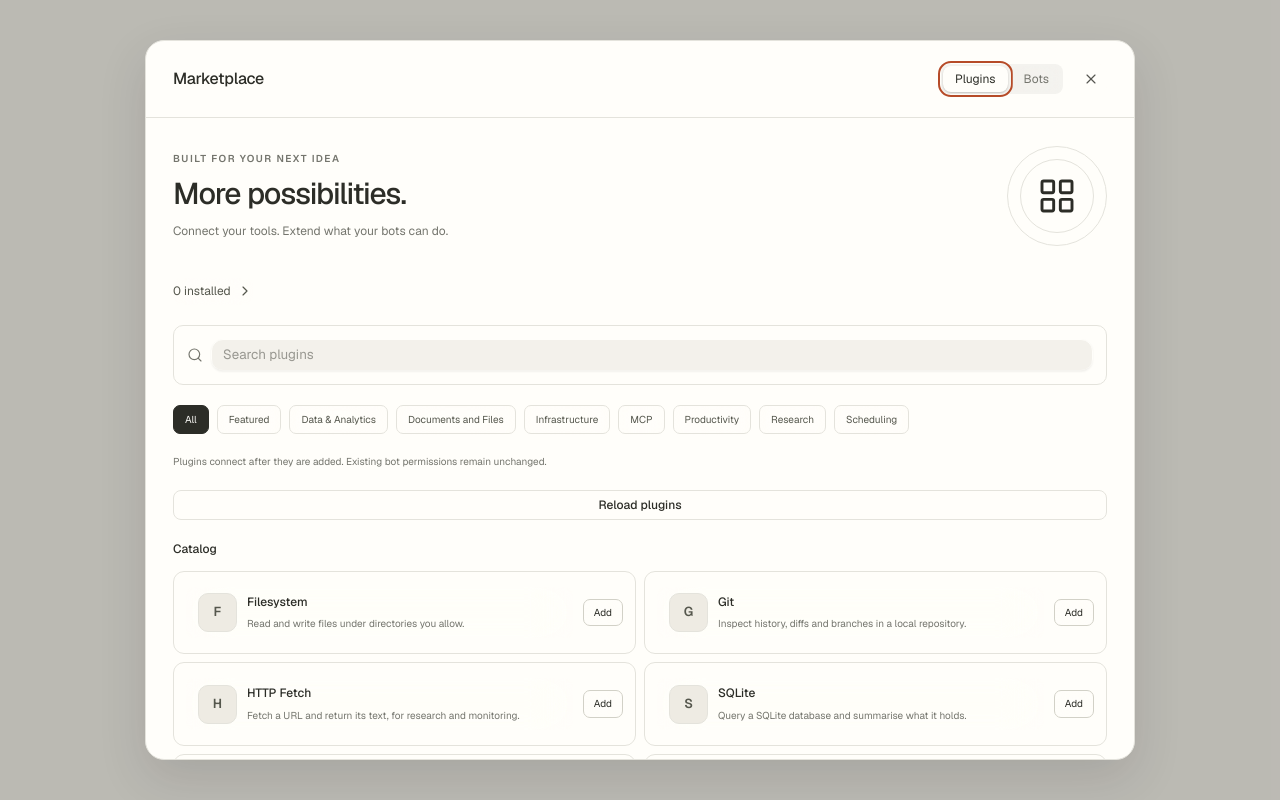
Test: plugins › reports successful hot connection and allows reload without restarting
Click the 1st button "Add": (603, 612) [583, 599, 623, 626]
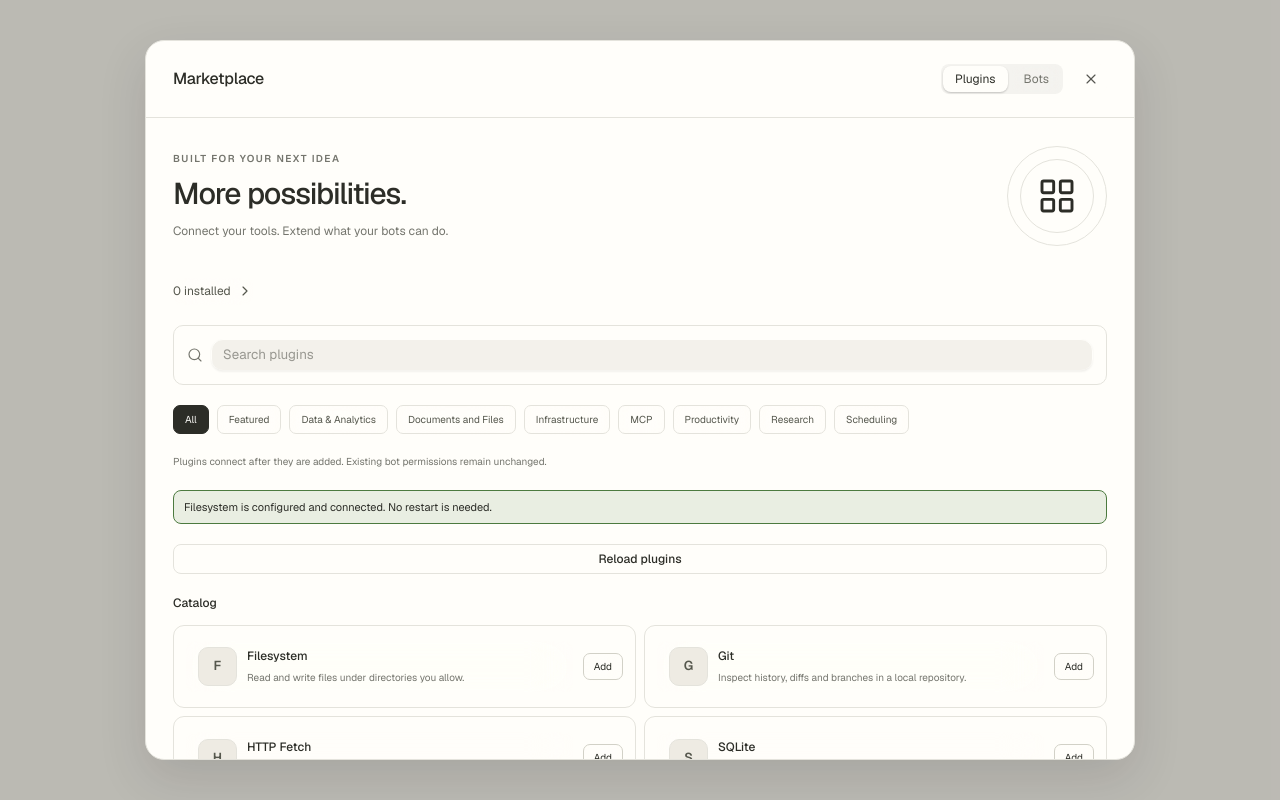
expect the text "Filesystem is configured and connected. No restart is needed." is shown: met, box [173, 490, 1107, 524]
Click the button "Reload plugins": (640, 559) [173, 544, 1107, 574]
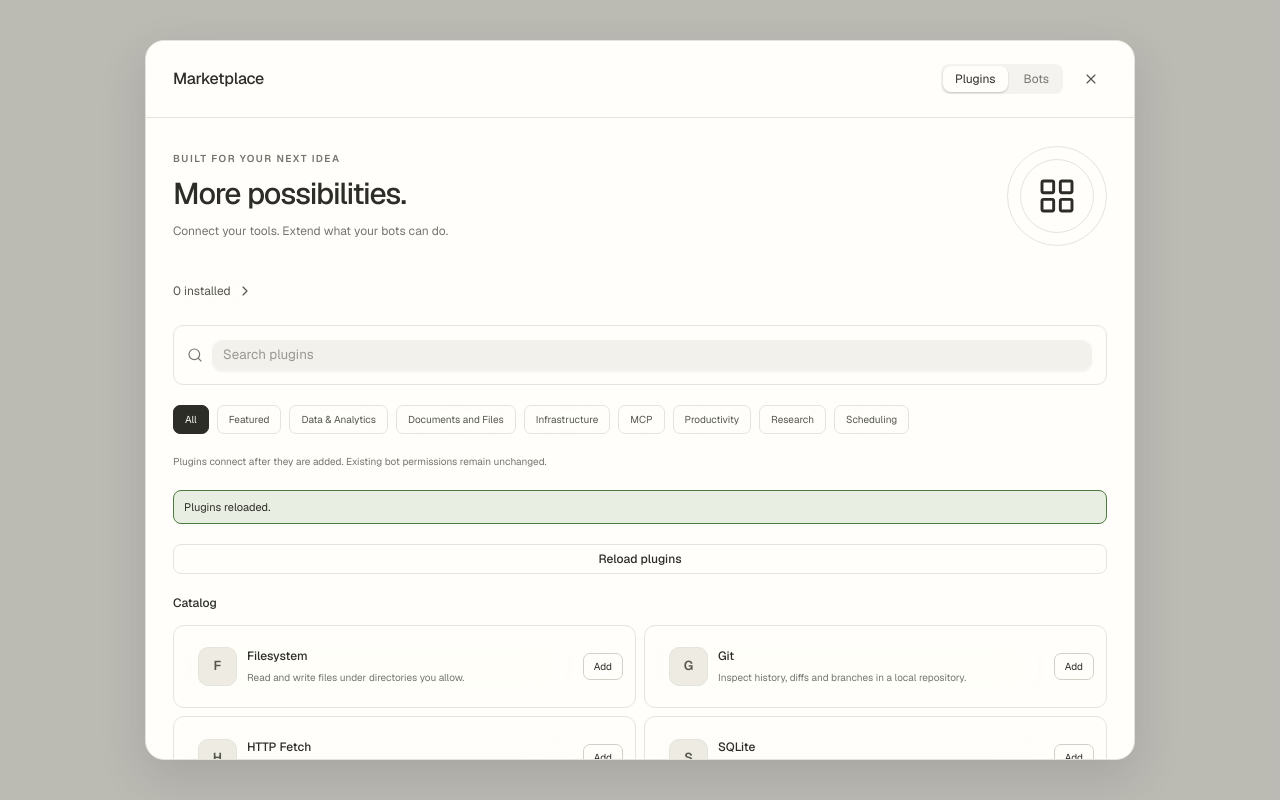
expect the text "Plugins reloaded." is shown: met, box [173, 490, 1107, 524]
